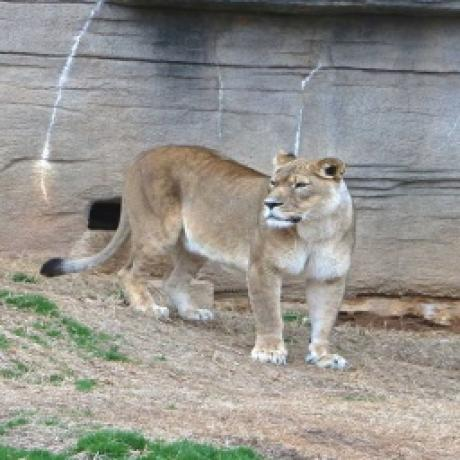Lion: (40, 139, 354, 371)
